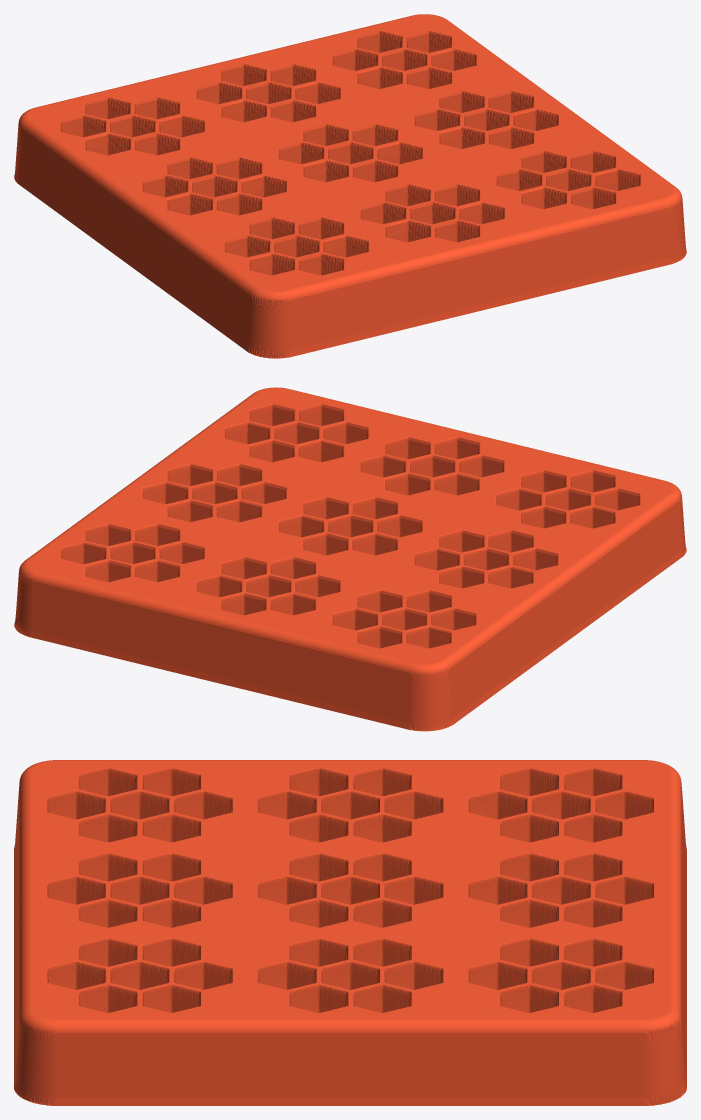
The model's file is mold.glb.
The picture shows the model from 3 angles, top to bottom: view 1: azimuth 30°, elevation 25°; view 2: azimuth 150°, elevation 25°; view 3: azimuth 270°, elevation 25°; orthographic projection. The views are drawn at different scales.
Parts seen in each view (by area): view 1: geometry_0; view 2: geometry_0; view 3: geometry_0.
Part boxes in pixels (<box>): geometry_0: <box>14,14,686,358</box>; geometry_0: <box>14,387,686,731</box>; geometry_0: <box>14,760,686,1105</box>.
Size of the model in its own units: 0.1345 by 0.0182 by 0.1402.
